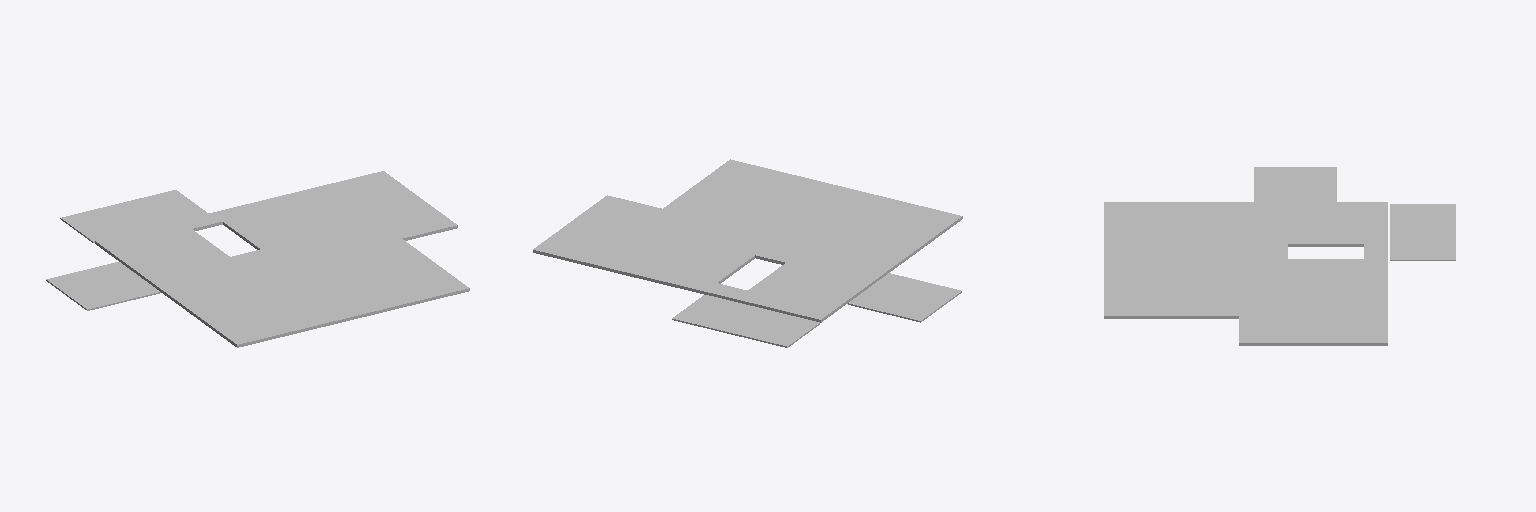
File: house_2ndFloor_floor.obj
The picture shows the model from 3 angles: view 1: azimuth 30°, elevation 25°; view 2: azimuth 150°, elevation 25°; view 3: azimuth 270°, elevation 25°; orthographic projection.
Visible parts, largest first — view 1: Cube.046_Mesh, Cube.076_Mesh, Cube.102_Mesh, Cube.031_Mesh, Cube.033_Mesh, Cube.069_Mesh, Cube.071_Mesh, Cube.048_Mesh, Cube.047_Mesh; view 2: Cube.046_Mesh, Cube.076_Mesh, Cube.102_Mesh, Cube.031_Mesh, Cube.033_Mesh, Cube.069_Mesh, Cube.071_Mesh, Cube.048_Mesh, Cube.047_Mesh; view 3: Cube.076_Mesh, Cube.046_Mesh, Cube.102_Mesh, Cube.031_Mesh, Cube.033_Mesh, Cube.069_Mesh, Cube.047_Mesh, Cube.071_Mesh, Cube.048_Mesh.
Boxes of the visible parts, x1=… form: Cube.046_Mesh: x1=171, y1=268, x2=352, y2=347; Cube.076_Mesh: x1=287, y1=240, x2=469, y2=319; Cube.102_Mesh: x1=212, y1=184, x2=376, y2=248; Cube.031_Mesh: x1=145, y1=213, x2=285, y2=298; Cube.033_Mesh: x1=328, y1=171, x2=457, y2=240; Cube.069_Mesh: x1=60, y1=190, x2=208, y2=242; Cube.071_Mesh: x1=46, y1=262, x2=160, y2=310; Cube.048_Mesh: x1=95, y1=227, x2=201, y2=279; Cube.047_Mesh: x1=261, y1=221, x2=402, y2=267; Cube.046_Mesh: x1=781, y1=188, x2=962, y2=267; Cube.076_Mesh: x1=664, y1=159, x2=845, y2=236; Cube.102_Mesh: x1=588, y1=227, x2=754, y2=294; Cube.031_Mesh: x1=705, y1=237, x2=895, y2=308; Cube.033_Mesh: x1=533, y1=195, x2=661, y2=265; Cube.069_Mesh: x1=672, y1=295, x2=819, y2=347; Cube.071_Mesh: x1=848, y1=273, x2=961, y2=322; Cube.048_Mesh: x1=764, y1=270, x2=870, y2=322; Cube.047_Mesh: x1=638, y1=208, x2=779, y2=254; Cube.076_Mesh: x1=1104, y1=259, x2=1236, y2=318; Cube.046_Mesh: x1=1104, y1=202, x2=1236, y2=258; Cube.102_Mesh: x1=1288, y1=259, x2=1387, y2=315; Cube.031_Mesh: x1=1237, y1=202, x2=1387, y2=258; Cube.033_Mesh: x1=1239, y1=316, x2=1387, y2=345; Cube.069_Mesh: x1=1390, y1=204, x2=1455, y2=260; Cube.047_Mesh: x1=1237, y1=259, x2=1287, y2=318; Cube.071_Mesh: x1=1254, y1=167, x2=1336, y2=201; Cube.048_Mesh: x1=1288, y1=202, x2=1387, y2=229.
Bounding box in the file's own units: 49.6 × 0.4 × 41.7.